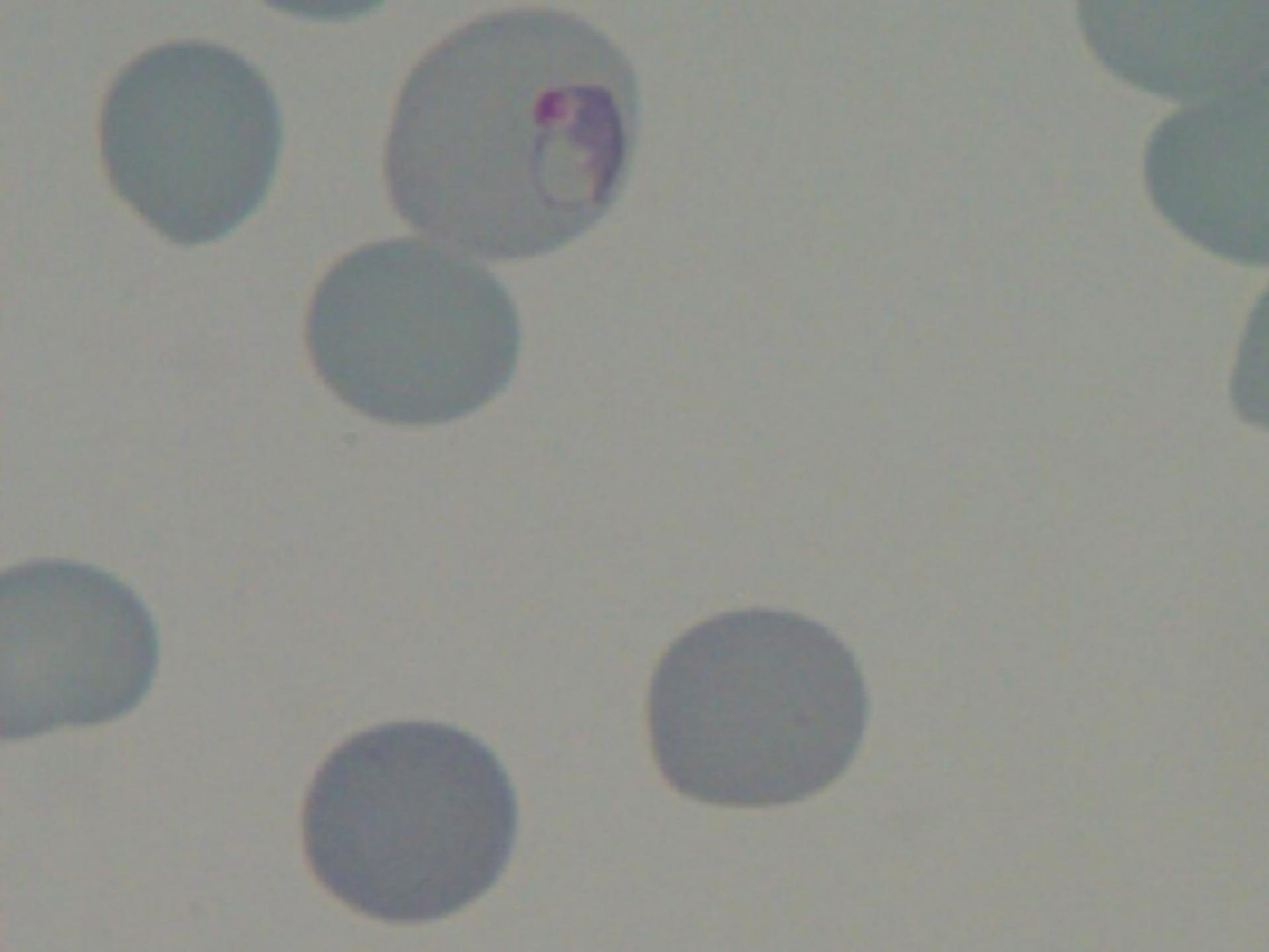Infected: (390, 12, 643, 269)
Uninfected: (300, 716, 516, 922), (657, 611, 867, 814), (302, 243, 516, 430), (106, 34, 279, 250), (0, 552, 162, 746)
